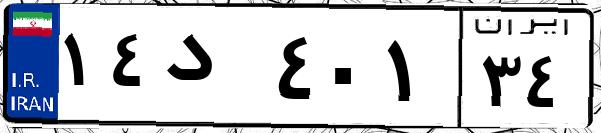0: (330, 28, 385, 110)
1: (385, 28, 445, 110), (57, 26, 110, 100)
3: (475, 38, 525, 113)
4: (270, 28, 330, 110), (525, 38, 570, 115), (110, 28, 158, 98)
د: (158, 20, 270, 120)
